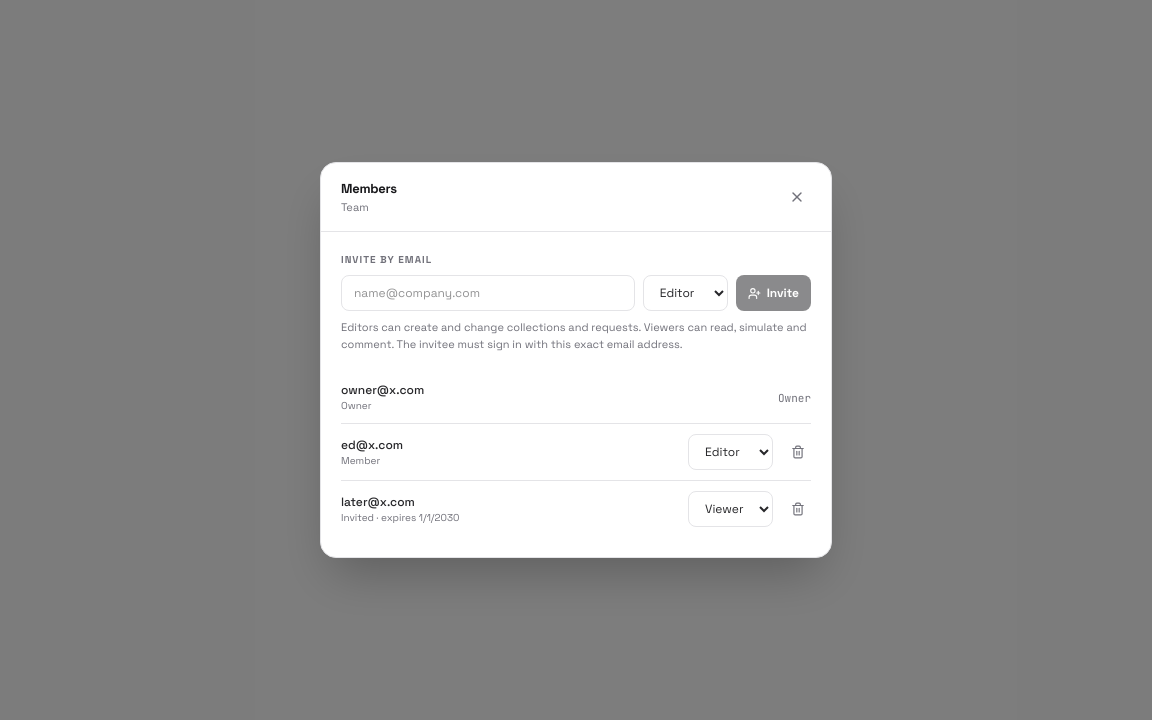
Test: MembersPanel › offers the link to the owner when the email could not be sent
Expected: the text "ed@x.com" is shown, [341,437,403,453]
Step 1. Type "new@x.com" into the field labelled "Invite by email" → (488, 293), box [341,275,635,311]
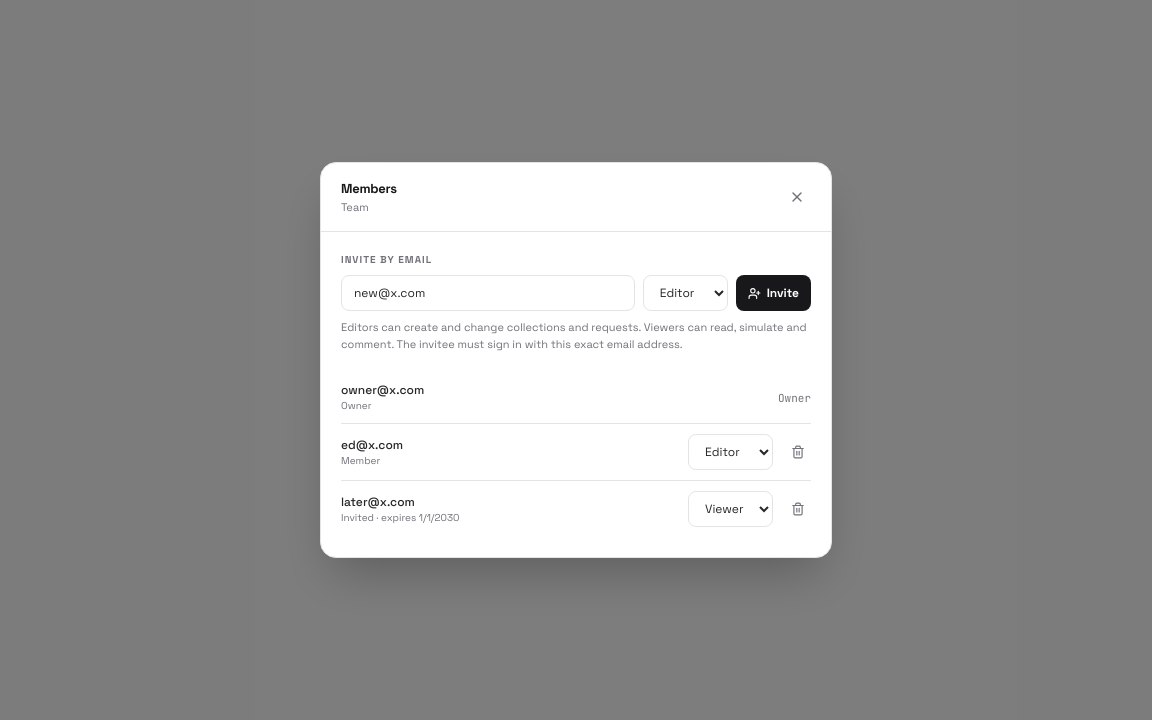
Step 2. Click the button "Invite" → (773, 293), box [736,275,811,311]
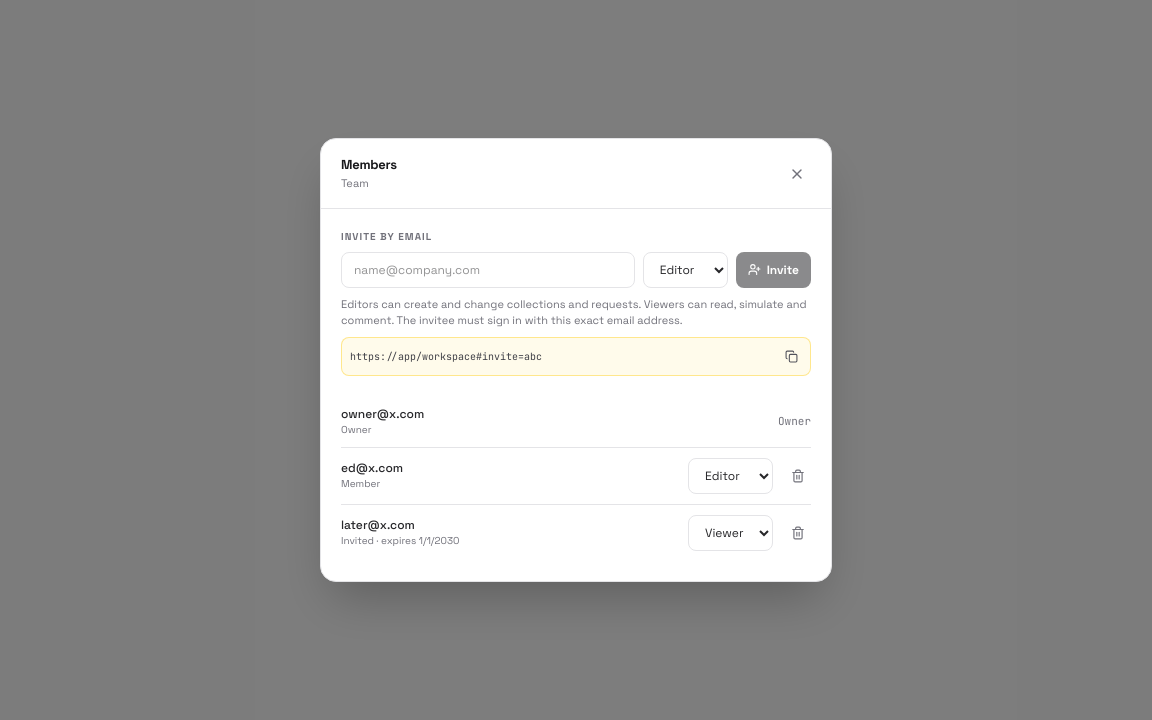
Result: the text "https://app/workspace#invite=abc" is shown at [350,350,542,363]
